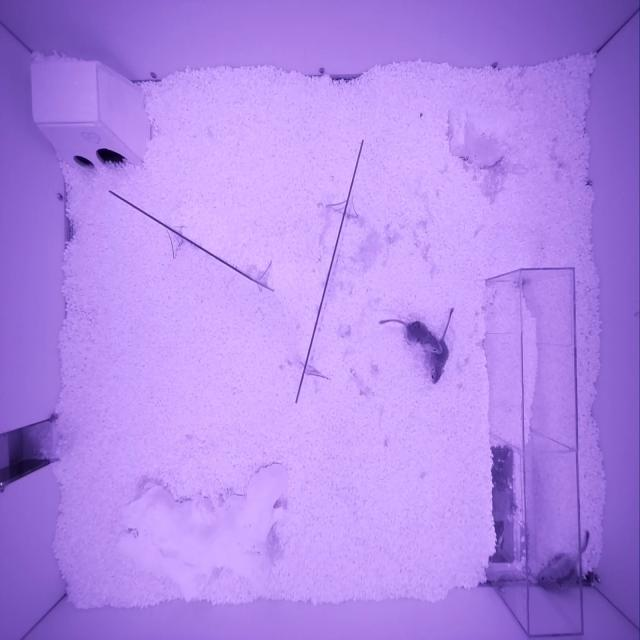pup_fluffy: (430, 339, 450, 385)
pup_spotted: (406, 319, 443, 354)
pup_v_stripe: (537, 552, 578, 592)
